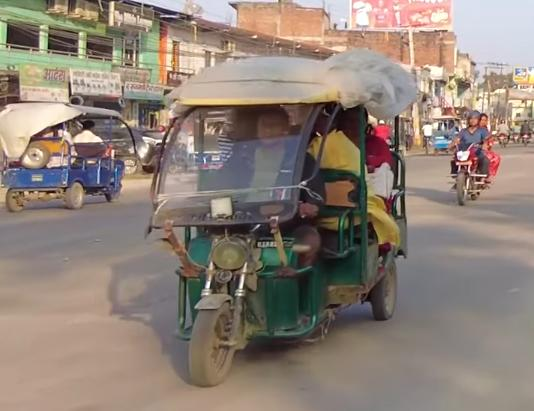bike: (448, 140, 496, 209)
e-rickshaw: (145, 46, 409, 388), (0, 98, 139, 215)
